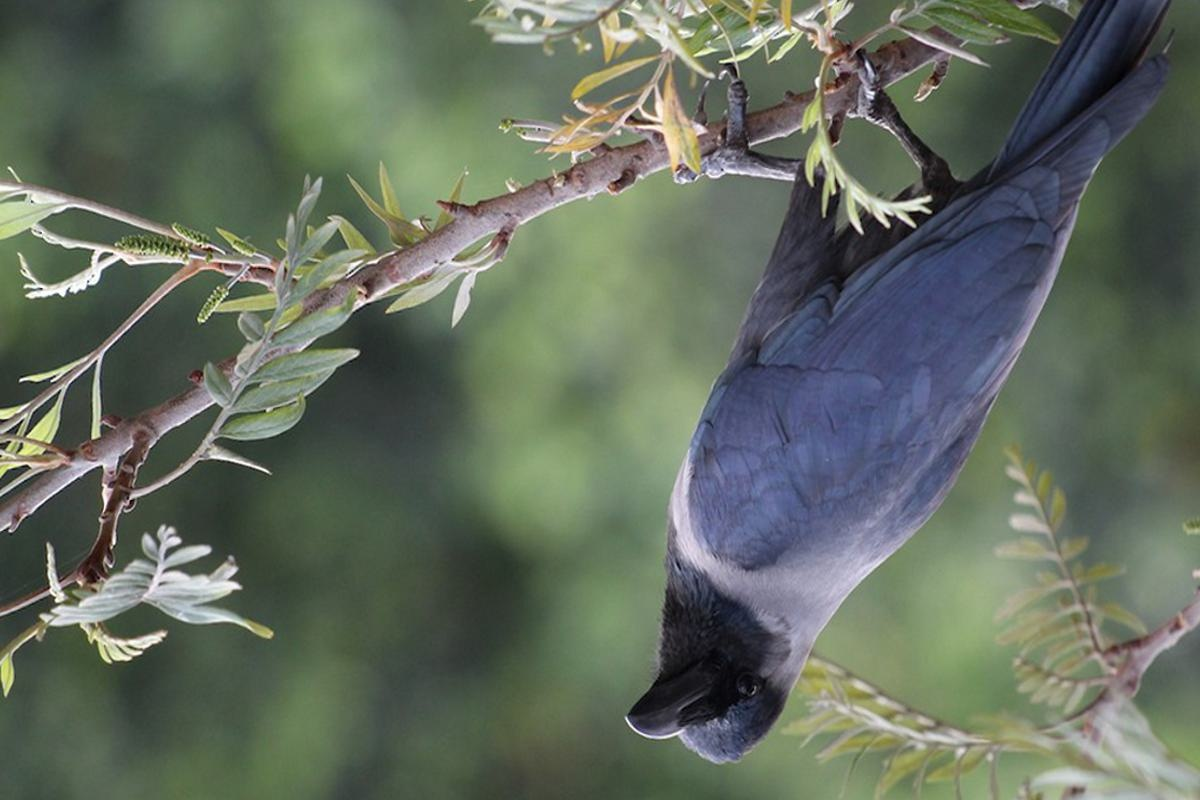crow: (619, 9, 1142, 765)
